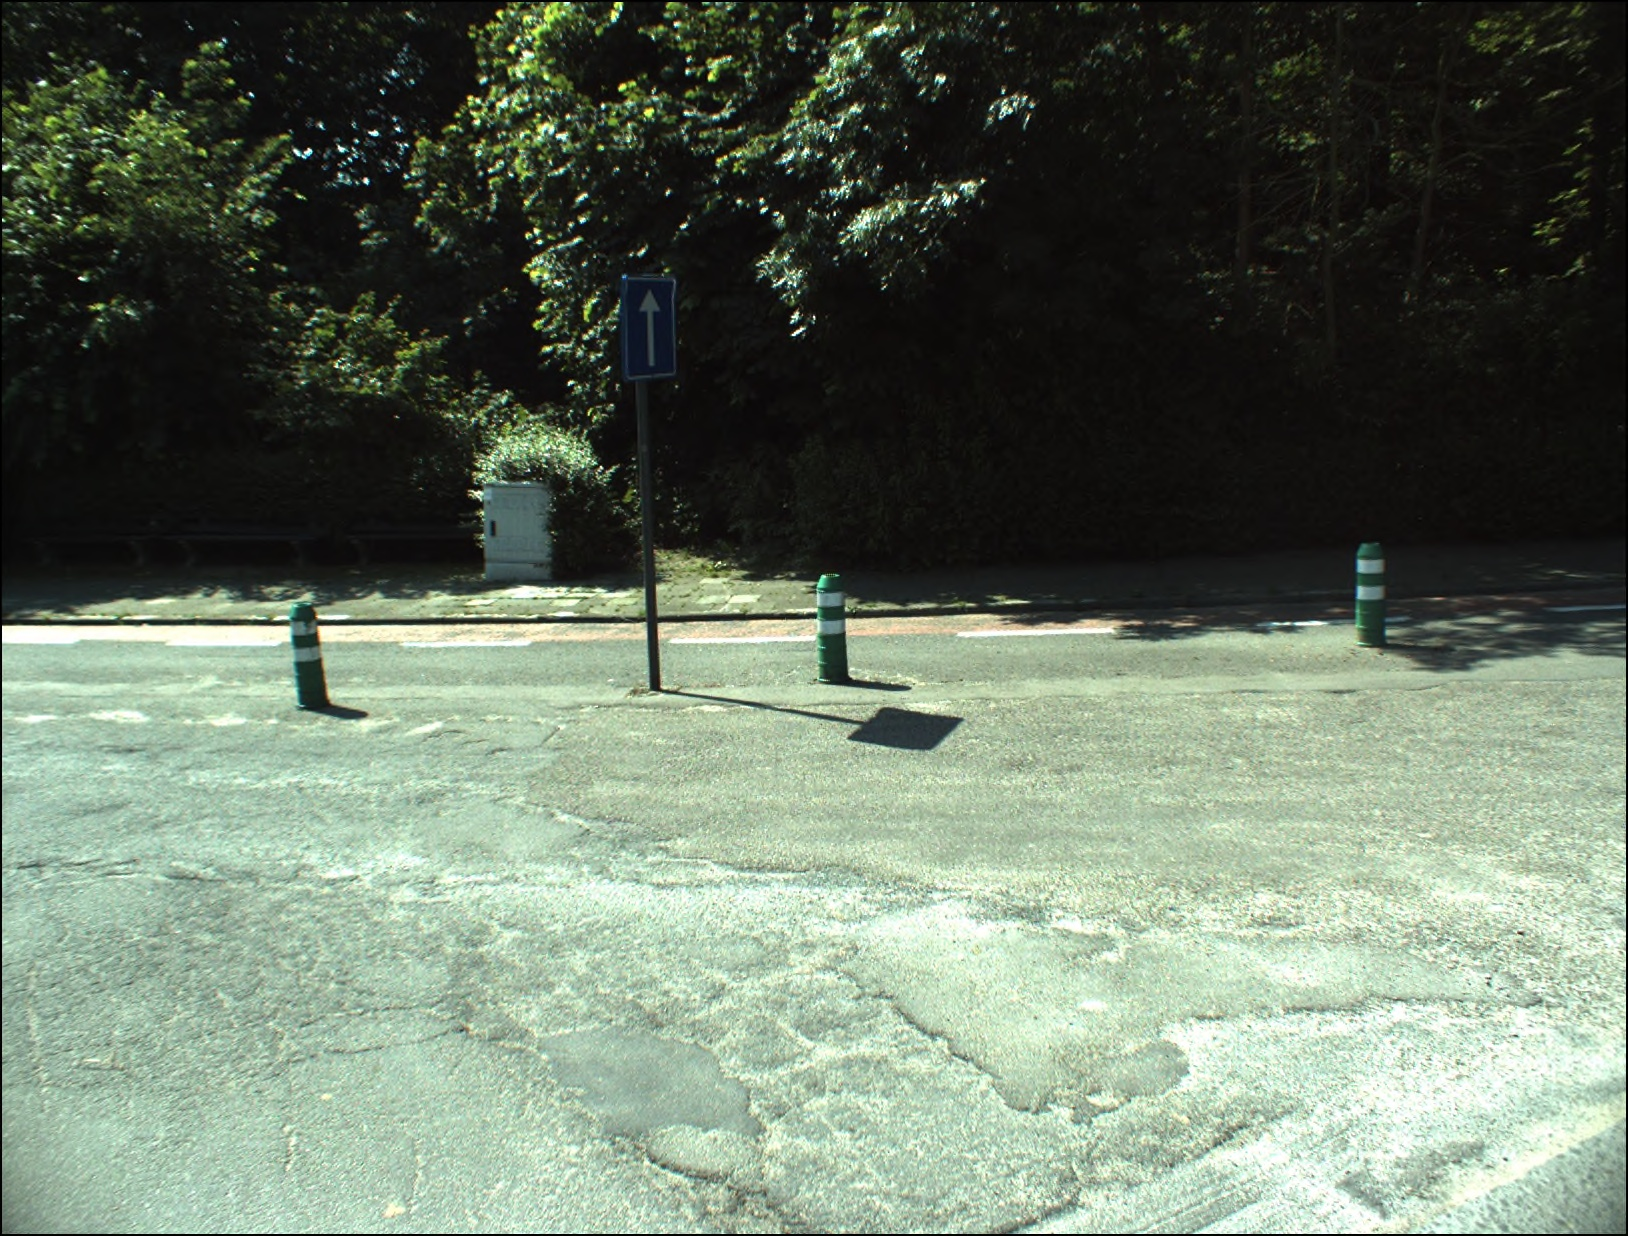oneway: (624, 280, 676, 379)
